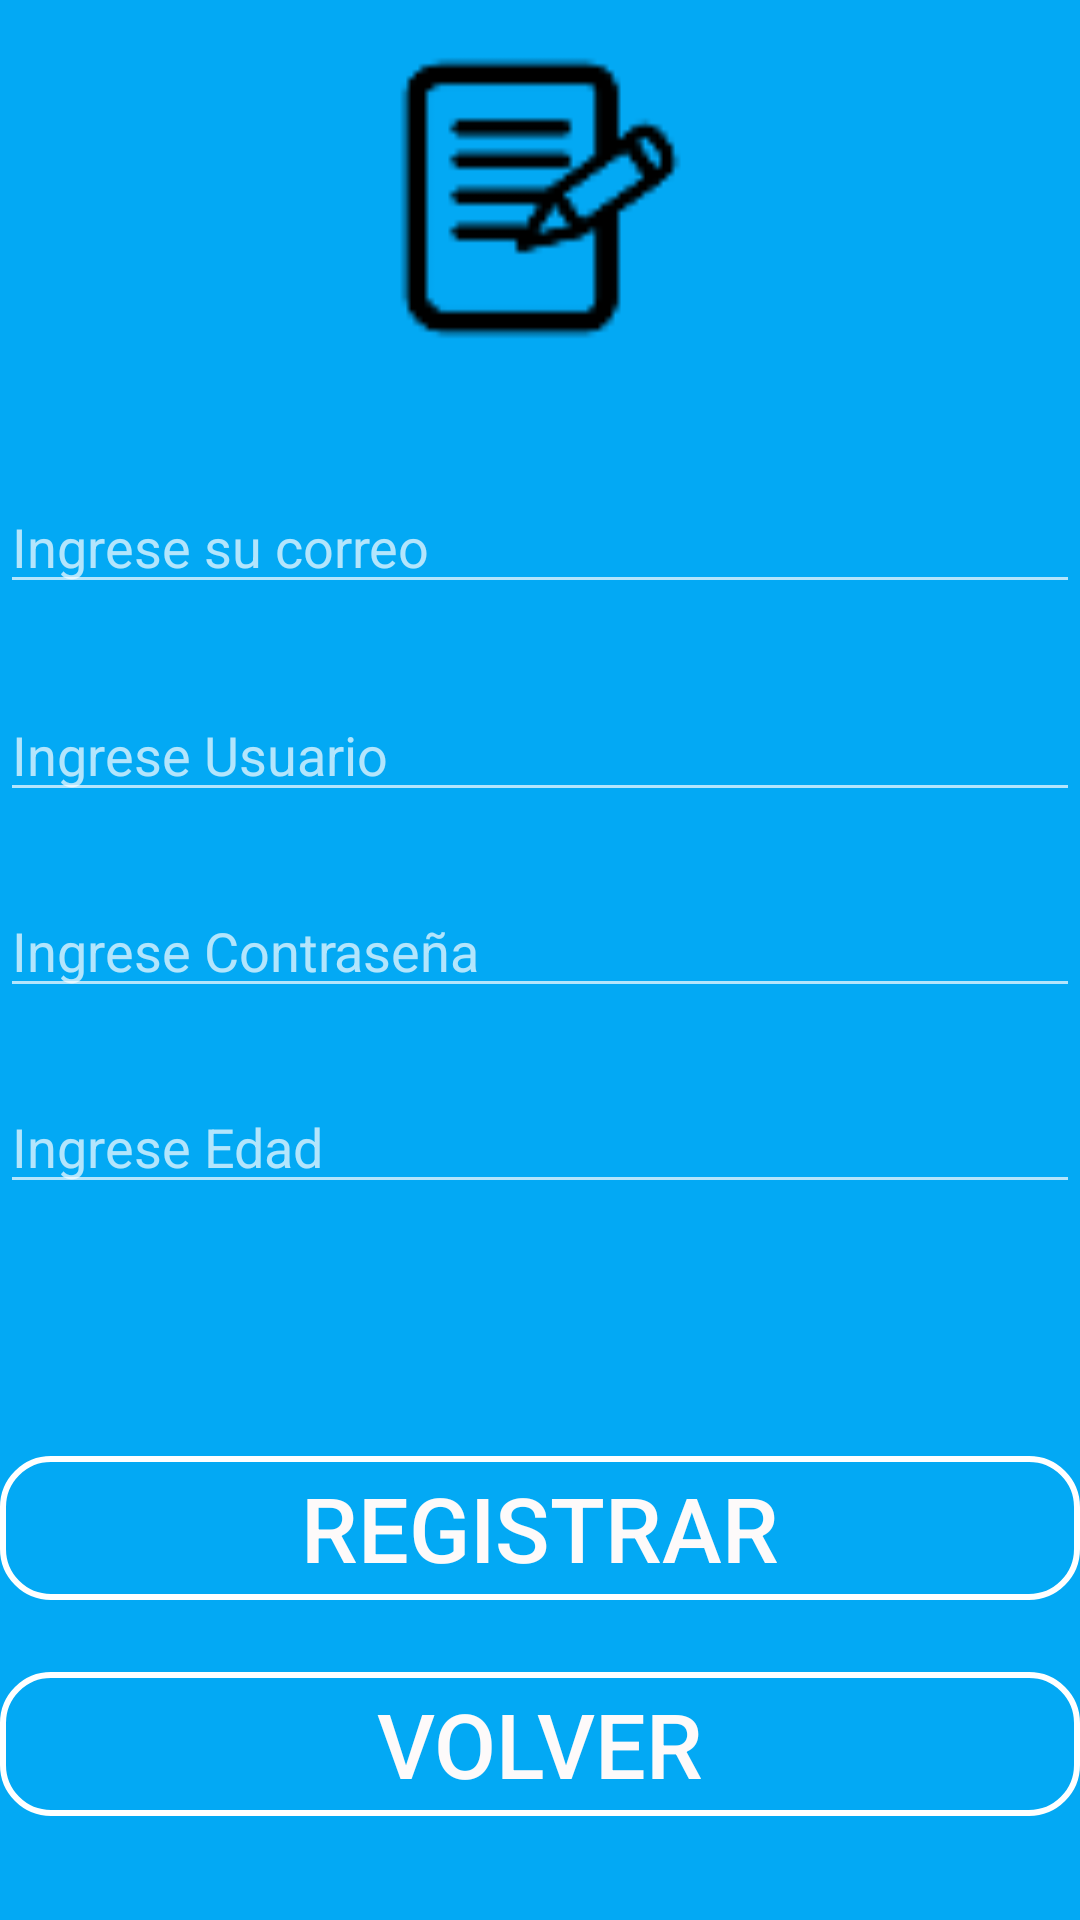

Named icons in this screenshot (1080px×1920px) and their centers, (x=x, y=y):
registro: (x=540, y=198)
